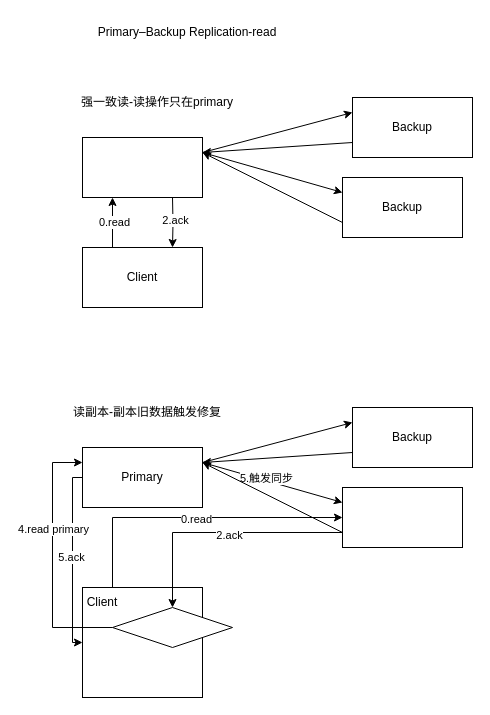
Image size: 490x715. Some labels were removed from this diagram. The box of each missing label's shape, as (x1, y1, x2, y2) in pixels:
3.是否是旧数据: (112, 606, 232, 648)
Backup 1.get data: (342, 486, 462, 548)
Primary 1.get data: (82, 136, 202, 198)
